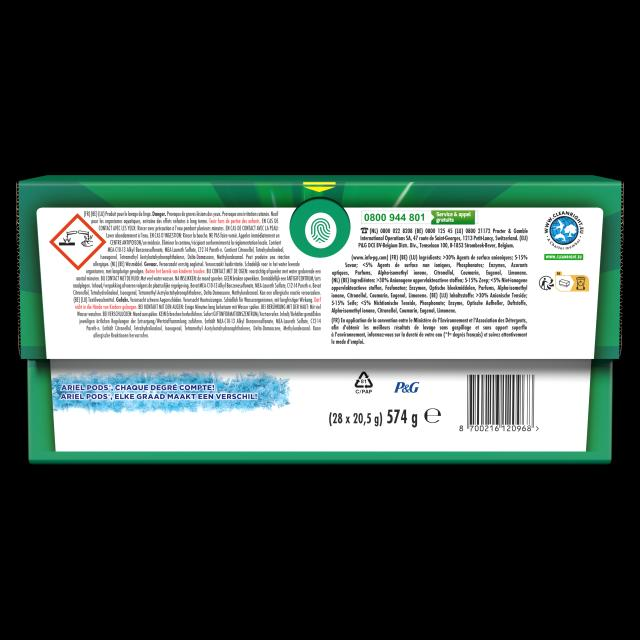GHS_Symbol_CORROSION: (50, 213, 106, 270)
